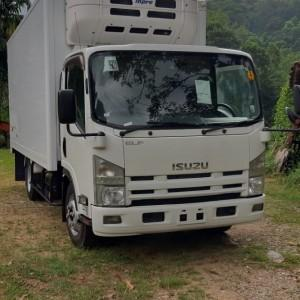truck: (4, 1, 266, 248)
